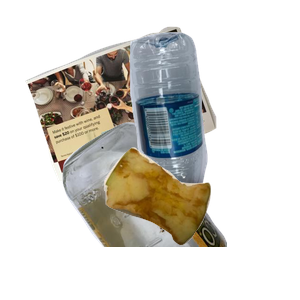glass: (60, 120, 300, 300)
paper: (23, 24, 232, 199)
plastic: (127, 29, 300, 209)
trash: (101, 145, 300, 300)
